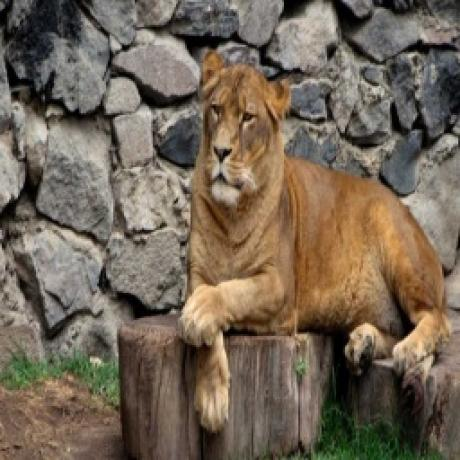Lion: (171, 44, 448, 440)
